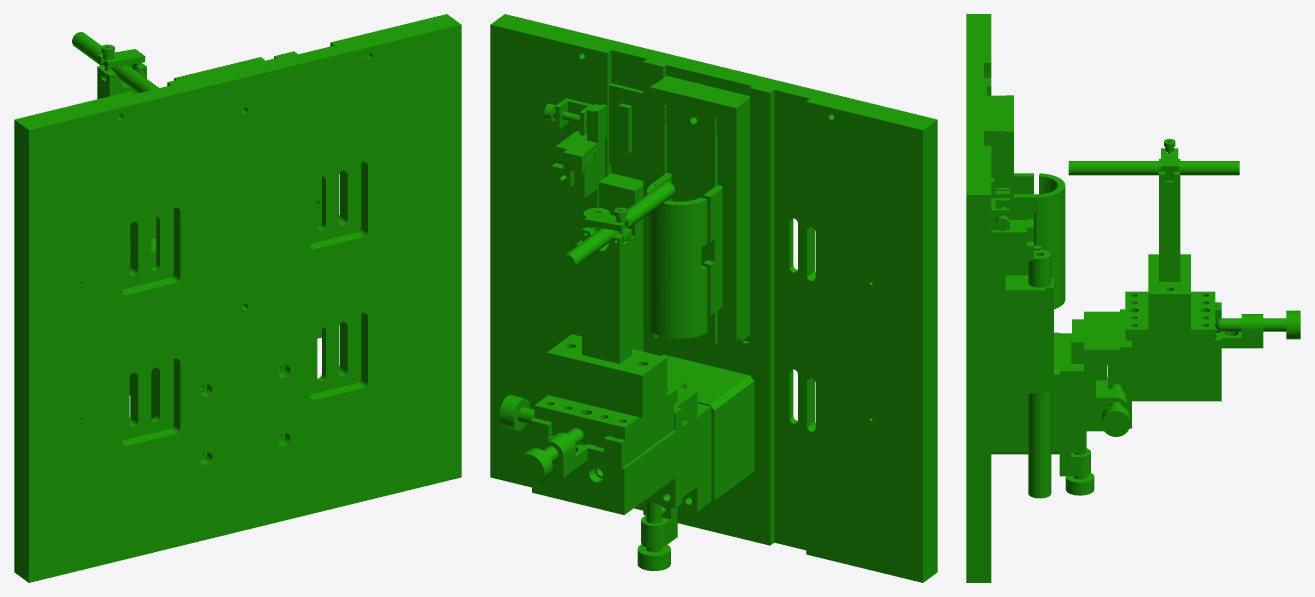
The picture shows the model from 3 angles, left to right: view 1: azimuth 30°, elevation 25°; view 2: azimuth 150°, elevation 25°; view 3: azimuth 270°, elevation 25°; orthographic projection. The views are drawn at different scales.
Visible parts, largest first — view 1: Base; view 2: Base; view 3: Base.
Boxes of the visible parts, bbox=[...] form: Base: bbox=[14, 14, 461, 582]; Base: bbox=[490, 14, 937, 582]; Base: bbox=[966, 14, 1300, 582].
Size of the model in its own units: 300 by 234 by 300.
